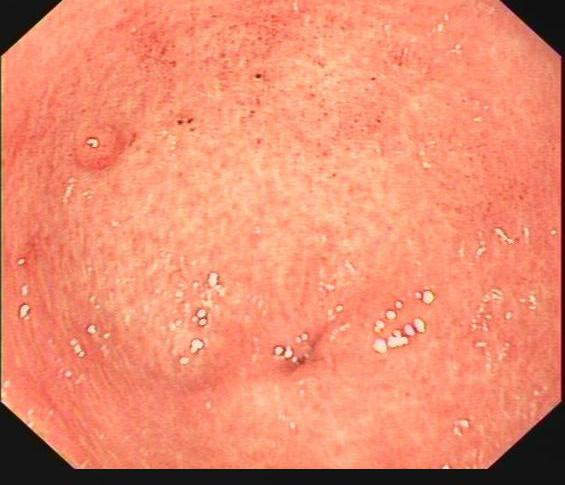Polyp: (59, 115, 131, 177)
